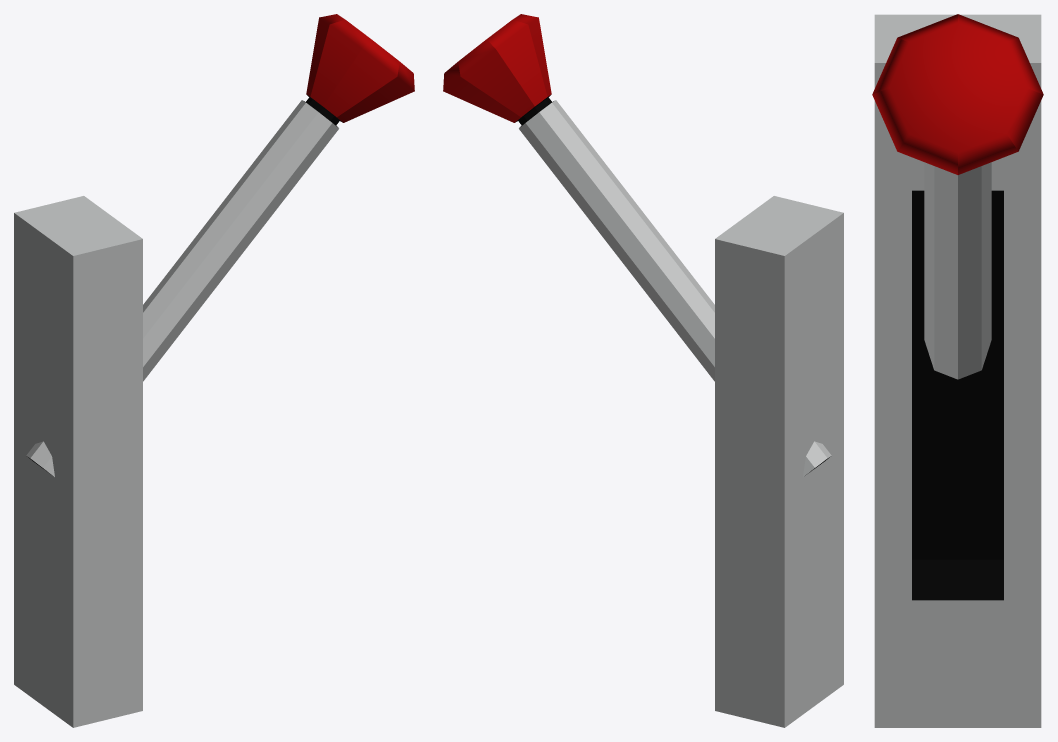
File: Lever (Untextured).fbx
The picture shows the model from 3 angles, left to right: view 1: azimuth 30°, elevation 25°; view 2: azimuth 150°, elevation 25°; view 3: azimuth 270°, elevation 25°; orthographic projection. The views are drawn at different scales.
Visible parts, largest first — view 1: LeverHolster, Lever; view 2: LeverHolster, Lever; view 3: LeverHolster, Lever.
Part boxes in pixels (x1,y1,x2,y2): LeverHolster: (14,196,142,727); Lever: (26,14,414,476); LeverHolster: (715,196,843,727); Lever: (443,14,831,476); LeverHolster: (874,14,1041,727); Lever: (872,14,1043,379).
Bounding box in the file's own units: 0.3727 × 0.5823 × 0.1048.
